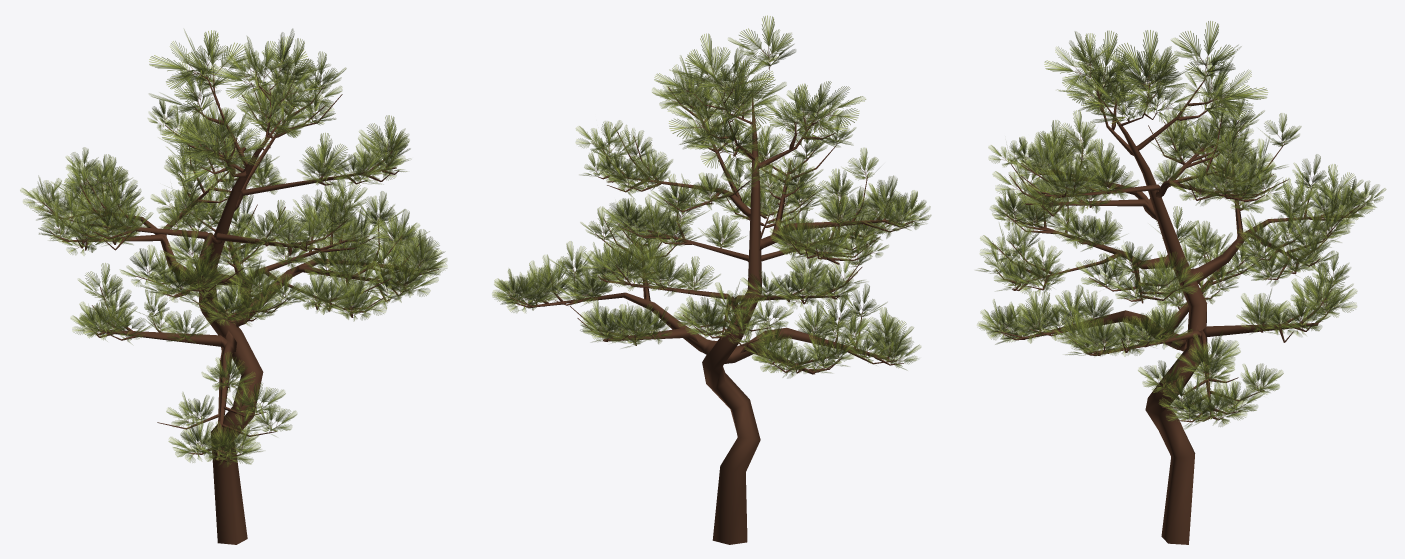
The model's file is Pine_Tree_3.glb.
The picture shows the model from 3 angles, left to right: view 1: azimuth 30°, elevation 25°; view 2: azimuth 150°, elevation 25°; view 3: azimuth 270°, elevation 25°; orthographic projection. The views are drawn at different scales.
Parts seen in each view (by area): view 1: Pine_Tree_3; view 2: Pine_Tree_3; view 3: Pine_Tree_3.
Boxes of the visible parts, x1,y1,x2,y2 form: Pine_Tree_3: [20, 28, 447, 544]; Pine_Tree_3: [492, 15, 931, 544]; Pine_Tree_3: [975, 21, 1386, 544].
Size of the model in its own units: 5.15 by 6.35 by 4.76.
2 materials, 2 textured.
